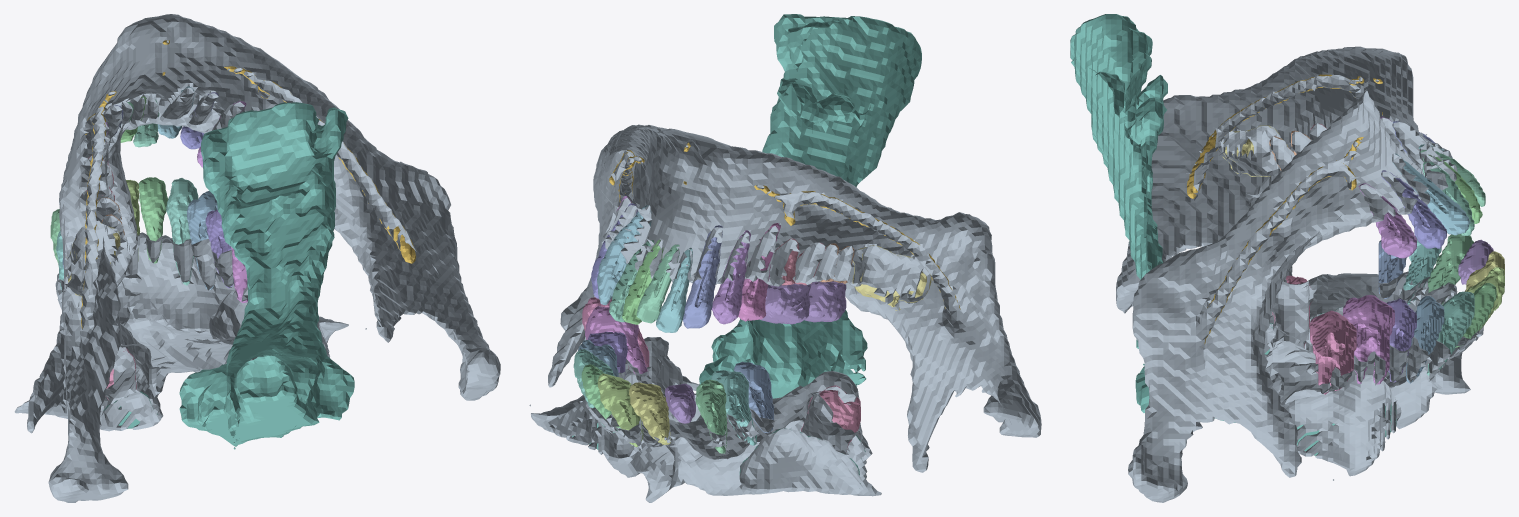
The model's file is ToothFairy3F_004.glb.
3 renders of one model, left to right at view 1: azimuth 30°, elevation 25°; view 2: azimuth 150°, elevation 25°; view 3: azimuth 270°, elevation 25°, orthographic.
Parts seen in each view (by area): view 1: jaws__1, other__7, jaws__2, teeth__22, teeth__23, teeth__24, teeth__25, canals__3; view 2: jaws__1, other__7, jaws__2, restorations__9, teeth__43, teeth__11, teeth__33, teeth__44, teeth__21, teeth__14, teeth__26, teeth__13 (+14 smaller); view 3: jaws__1, jaws__2, other__7, teeth__26, teeth__27, teeth__33, teeth__23, teeth__34, teeth__35, teeth__13, teeth__24, teeth__25 (+10 smaller).
Boxes of the visible parts, x1,y1,x2,y2 form: jaws__1: (27, 14, 500, 502); other__7: (179, 102, 354, 449); jaws__2: (14, 232, 366, 431); teeth__22: (138, 177, 167, 263); teeth__23: (166, 178, 198, 285); teeth__24: (187, 191, 217, 289); teeth__25: (205, 209, 233, 288); canals__3: (258, 80, 416, 263); jaws__1: (548, 124, 1041, 472); other__7: (699, 14, 921, 398); jaws__2: (529, 337, 881, 502); restorations__9: (760, 281, 846, 324); teeth__43: (683, 225, 722, 328); teeth__11: (629, 382, 670, 444); teeth__33: (597, 205, 651, 305); teeth__44: (711, 230, 750, 324); teeth__21: (597, 373, 643, 447); teeth__14: (711, 370, 756, 445); teeth__26: (585, 306, 648, 375); teeth__13: (695, 379, 727, 453); jaws__1: (1116, 46, 1457, 502); jaws__2: (1264, 271, 1483, 480); other__7: (1070, 14, 1235, 422); teeth__26: (1343, 295, 1394, 384); teeth__27: (1310, 310, 1356, 394); teeth__33: (1392, 153, 1470, 235); teeth__23: (1426, 291, 1474, 375); teeth__34: (1381, 170, 1446, 248); teeth__35: (1358, 183, 1416, 258); teeth__13: (1425, 234, 1473, 304); teeth__24: (1406, 296, 1444, 383); teeth__25: (1386, 298, 1416, 382).
Bounding box in the file's own units: 115 × 81.93 × 95.05.
